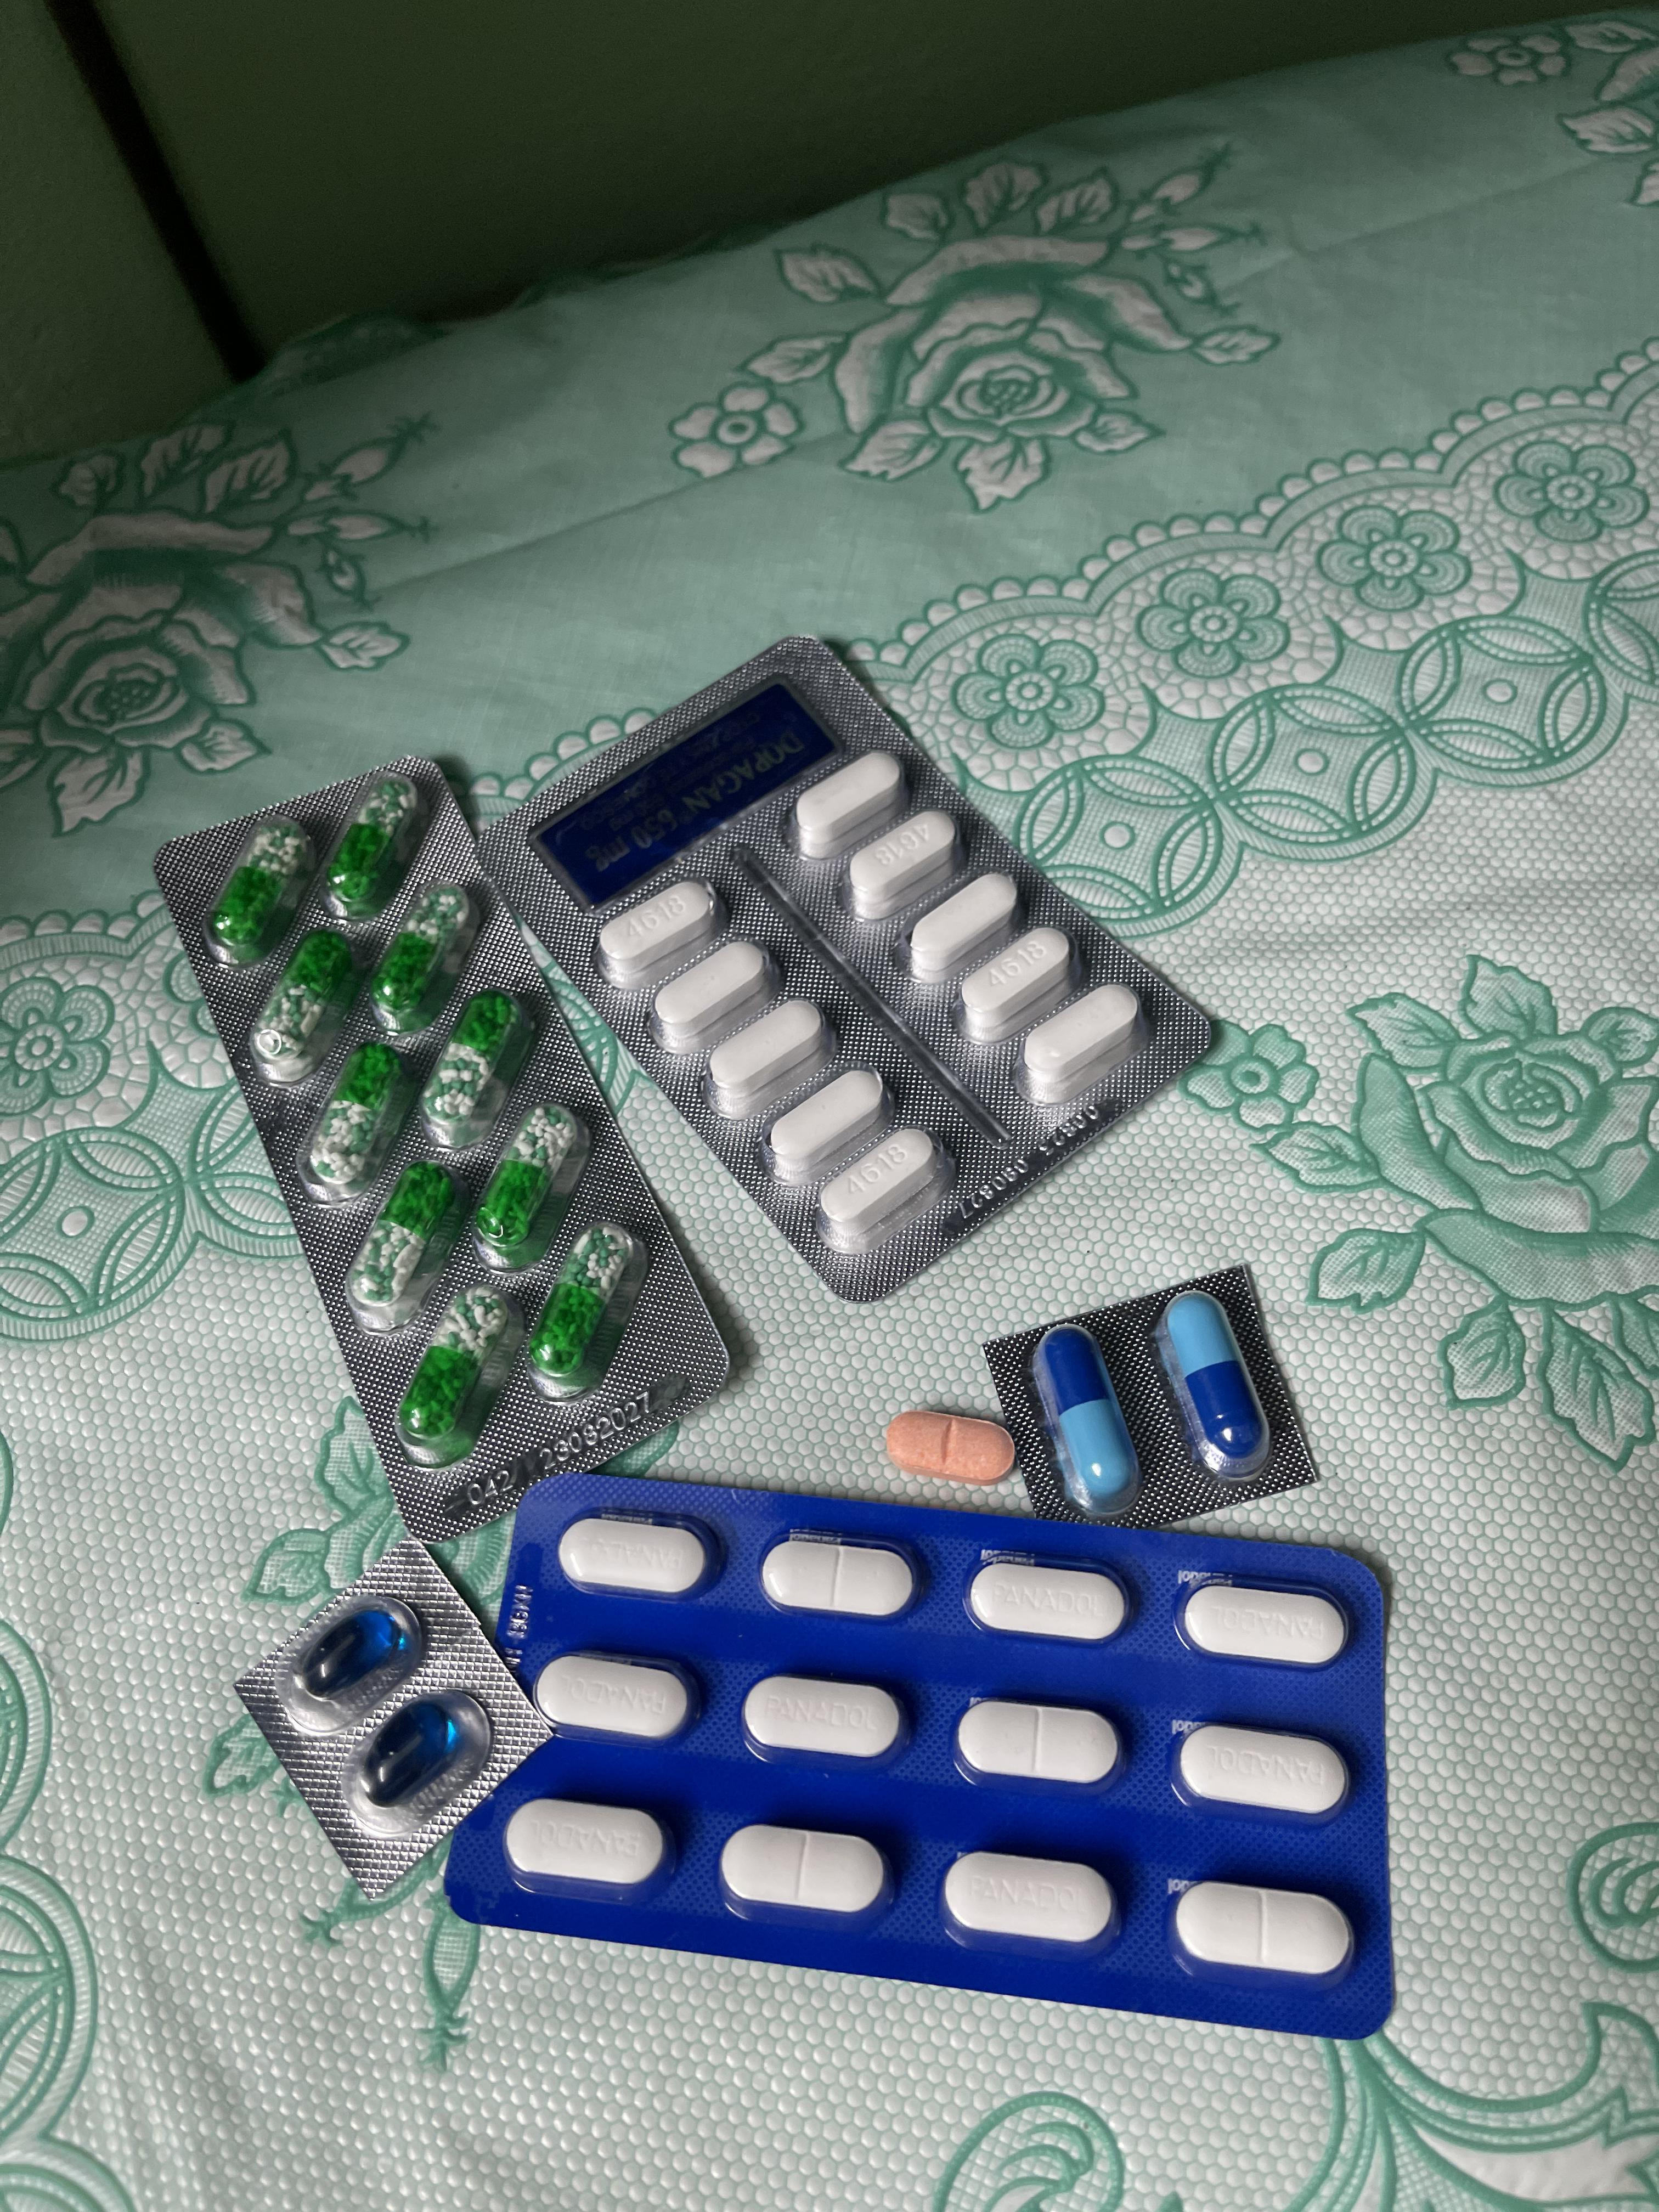Lincomyxin_500mg: (361, 1700, 461, 1802), (302, 1609, 407, 1699)
Loratadine_10mg: (887, 1409, 1017, 1485)
Paracetamol_350mg: (1173, 1881, 1356, 1988), (943, 1851, 1123, 1955), (1172, 1723, 1353, 1824), (723, 1824, 893, 1928), (507, 1797, 676, 1901), (955, 1699, 1125, 1792), (532, 1653, 699, 1747), (1178, 1582, 1351, 1672), (743, 1675, 908, 1769), (967, 1558, 1133, 1646), (556, 1513, 719, 1600), (760, 1532, 921, 1621)
Paracetamol_500mg: (651, 933, 778, 1058), (596, 879, 723, 1000), (1020, 985, 1142, 1109), (709, 997, 830, 1122), (768, 1067, 888, 1190), (820, 1125, 944, 1243), (909, 877, 1024, 1000), (958, 922, 1071, 1045), (847, 811, 958, 918), (793, 752, 904, 858)
Paracetamol_650mg: (386, 1285, 516, 1458), (300, 1040, 425, 1198), (526, 1223, 641, 1395), (341, 1154, 460, 1317), (465, 1094, 583, 1259), (422, 993, 537, 1150), (246, 929, 363, 1079), (206, 815, 317, 964), (370, 872, 479, 1022), (324, 774, 420, 913)
pill: (1153, 1291, 1273, 1488), (1028, 1325, 1141, 1517)
